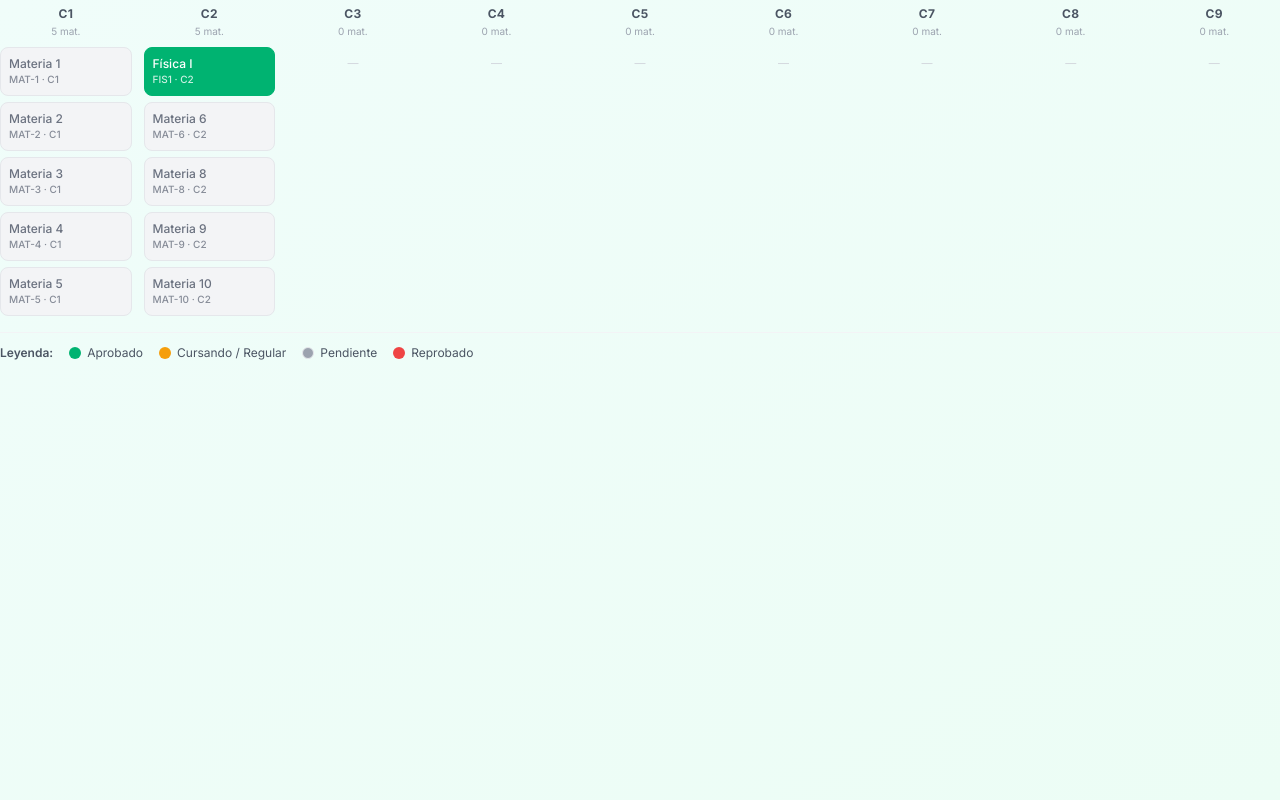
CurriculumGraph › click materia muestra detalle con nombre cuatrimestre estado nota
This screenshot has width=1280, height=800.
Note: busca nodo Física I
Click the button "Física I FIS1 · C2" at coordinates (209, 72), box x1=144 y1=47 x2=275 y2=96
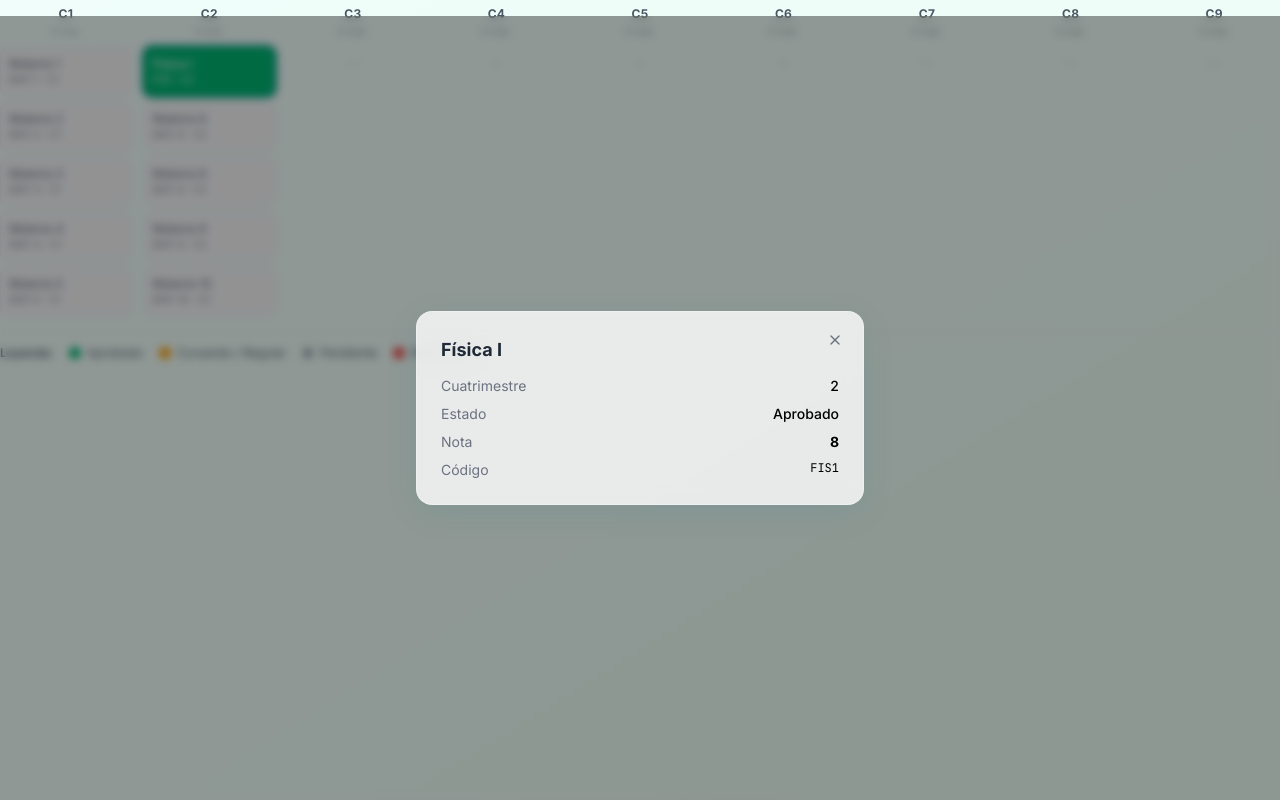
Expected: the text "Física I" is shown, x1=152 y1=56 x2=192 y2=71
Expected: the dialog is shown, x1=416 y1=311 x2=864 y2=505
